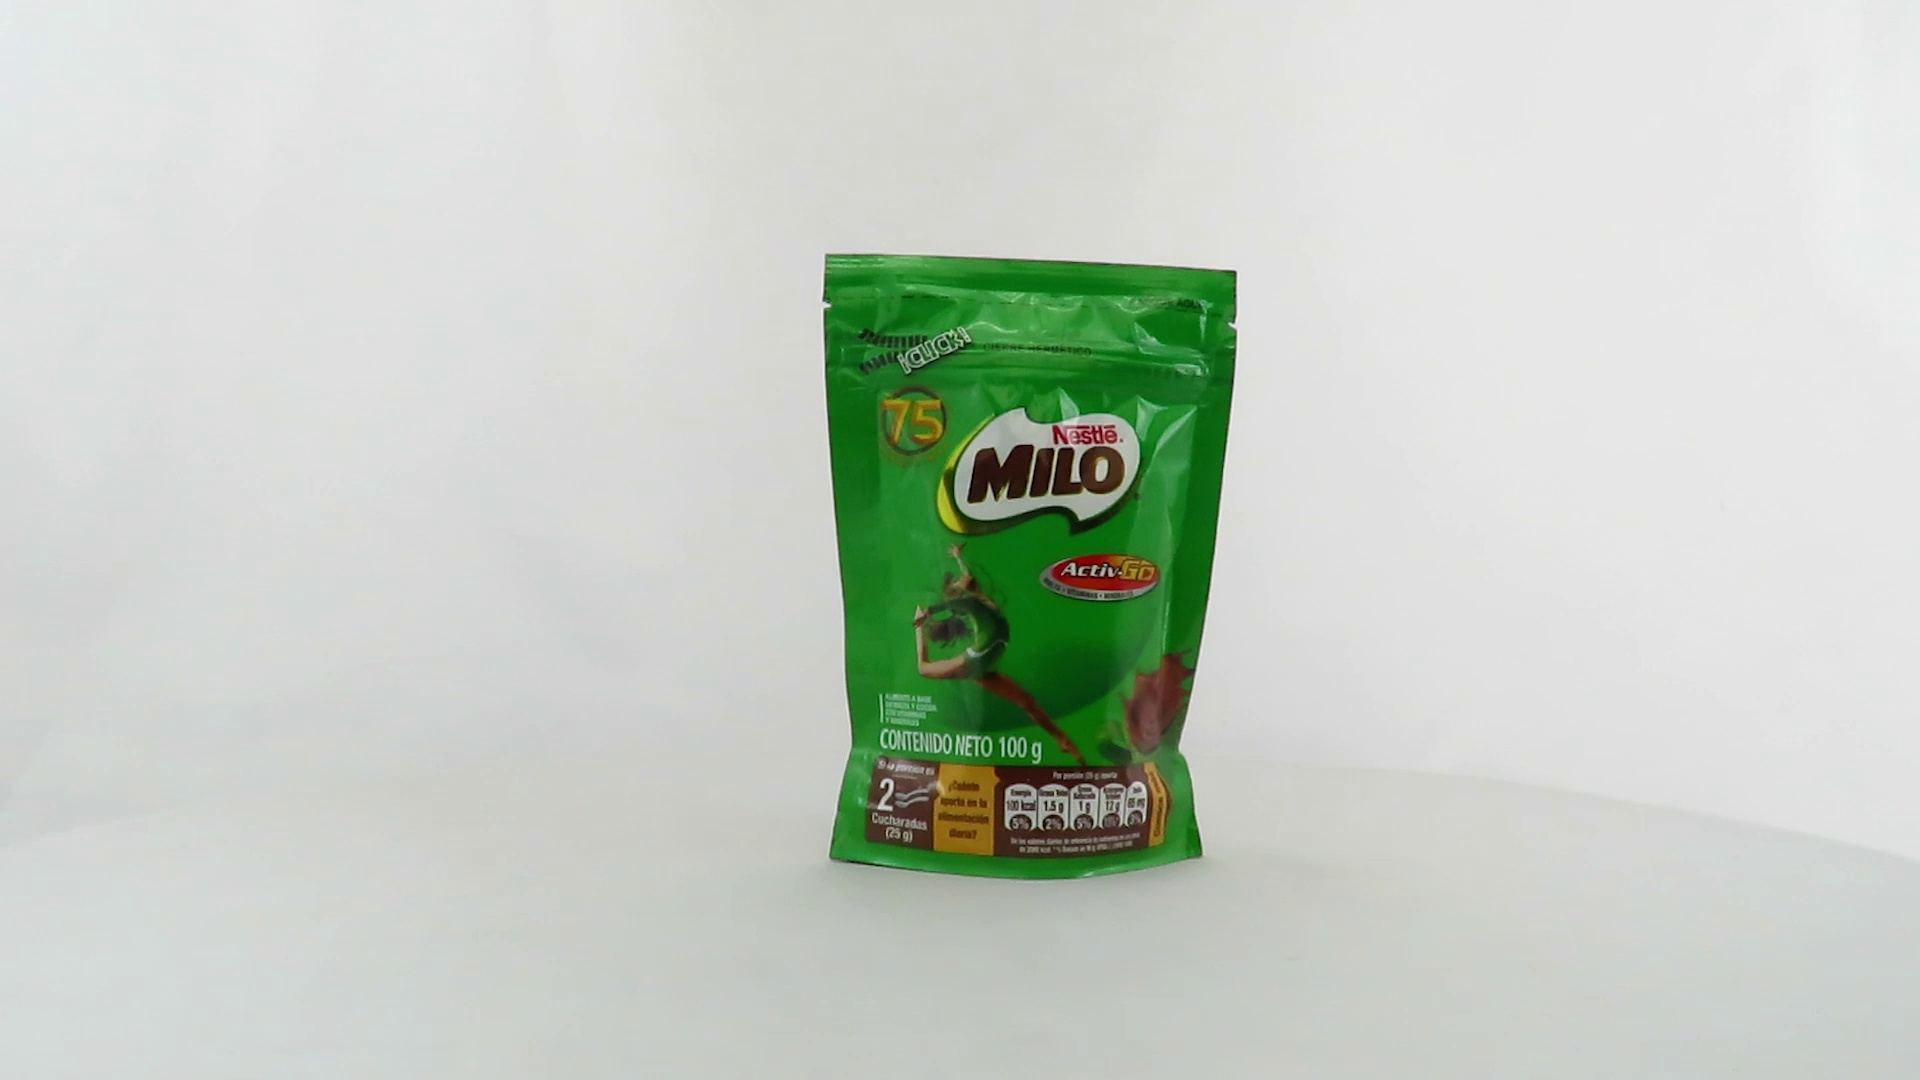COL0170203DYP10000: (818, 248, 1244, 887)
